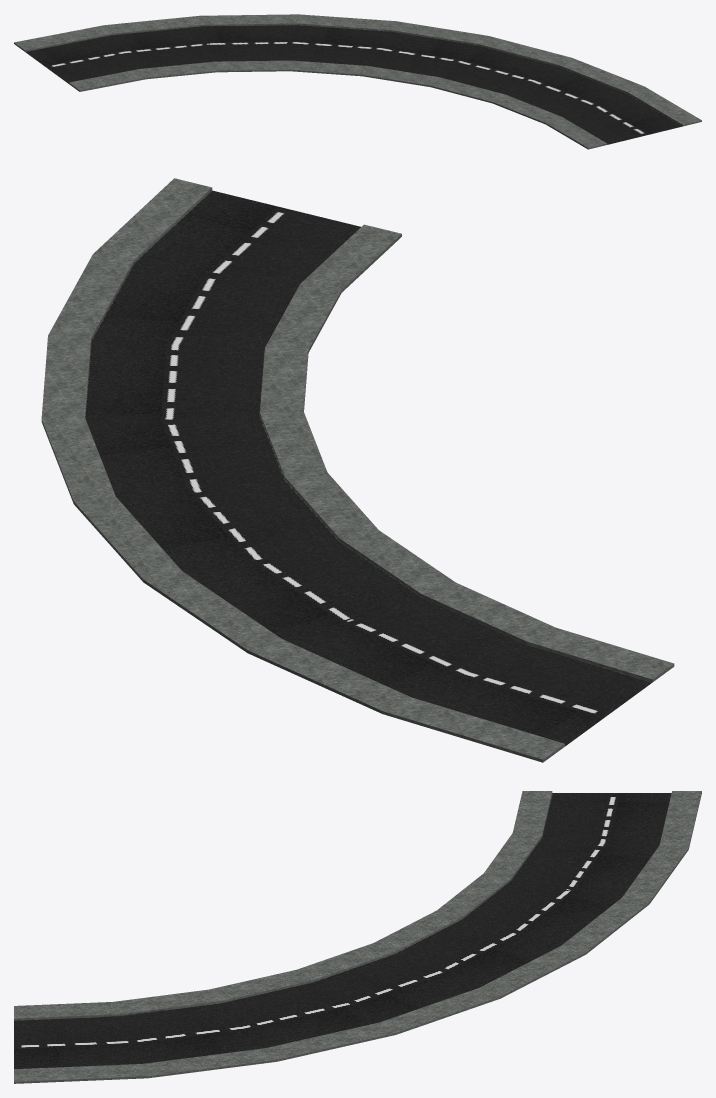
File: viras_new.fbx
3 renders of one model, top to bottom at view 1: azimuth 30°, elevation 25°; view 2: azimuth 150°, elevation 25°; view 3: azimuth 270°, elevation 25°, orthographic. The views are drawn at different scales.
Parts seen in each view (by area): view 1: Circle.001; view 2: Circle.001; view 3: Circle.001.
Part boxes in pixels (x1=…): Circle.001: x1=14, y1=14, x2=701, y2=149; Circle.001: x1=41, y1=178, x2=674, y2=762; Circle.001: x1=14, y1=791, x2=701, y2=1083.
Bounding box in the file's own units: 4599 × 15.25 × 4599.
1 material, 1 textured.
